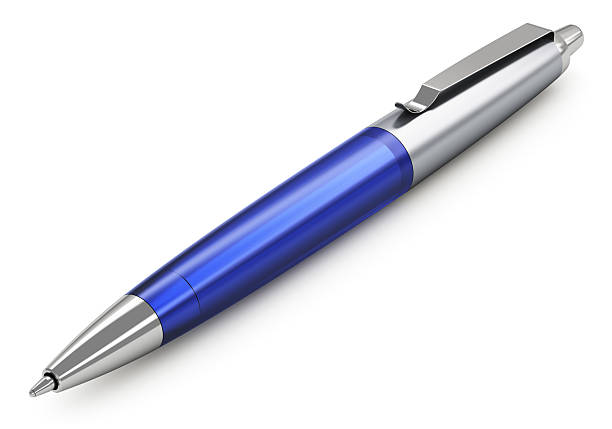pen: (14, 8, 600, 406)
